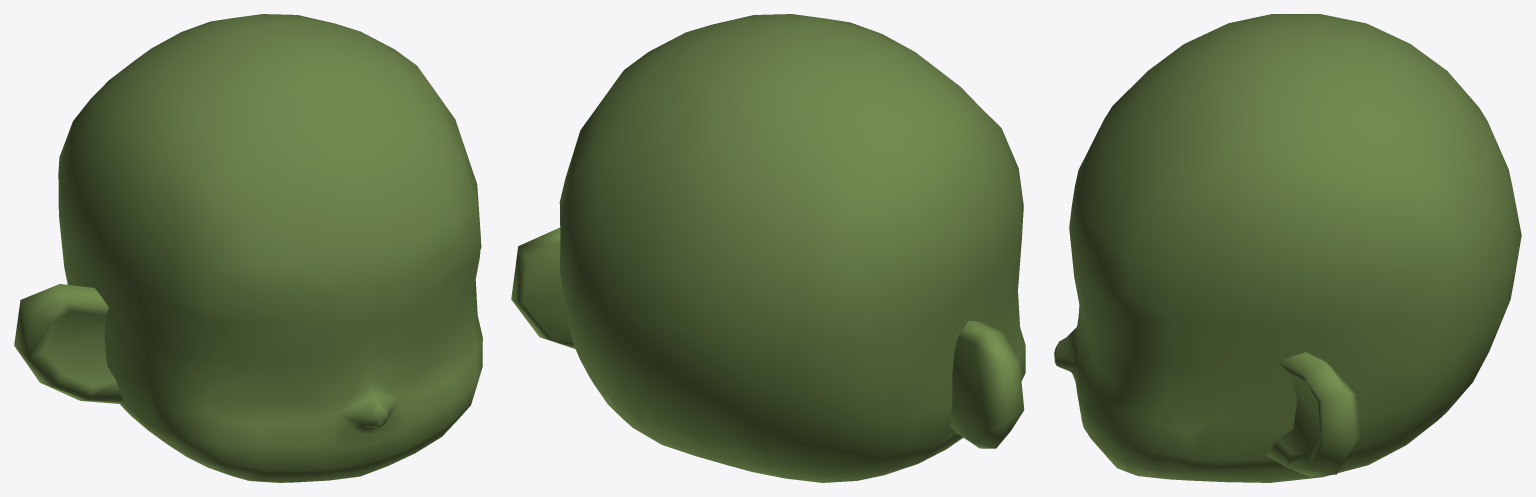
File: Body_Green_Head_1.fbx
3 renders of one model, left to right at view 1: azimuth 30°, elevation 25°; view 2: azimuth 150°, elevation 25°; view 3: azimuth 270°, elevation 25°, orthographic. The views are drawn at different scales.
Visible parts, largest first — view 1: Body_Green_Head_1; view 2: Body_Green_Head_1; view 3: Body_Green_Head_1.
Boxes of the visible parts, x1,y1,x2,y2 form: Body_Green_Head_1: [14, 14, 482, 482]; Body_Green_Head_1: [511, 14, 1025, 482]; Body_Green_Head_1: [1054, 14, 1521, 482].
Bounding box in the file's own units: 64.19 × 52.19 × 53.9.
